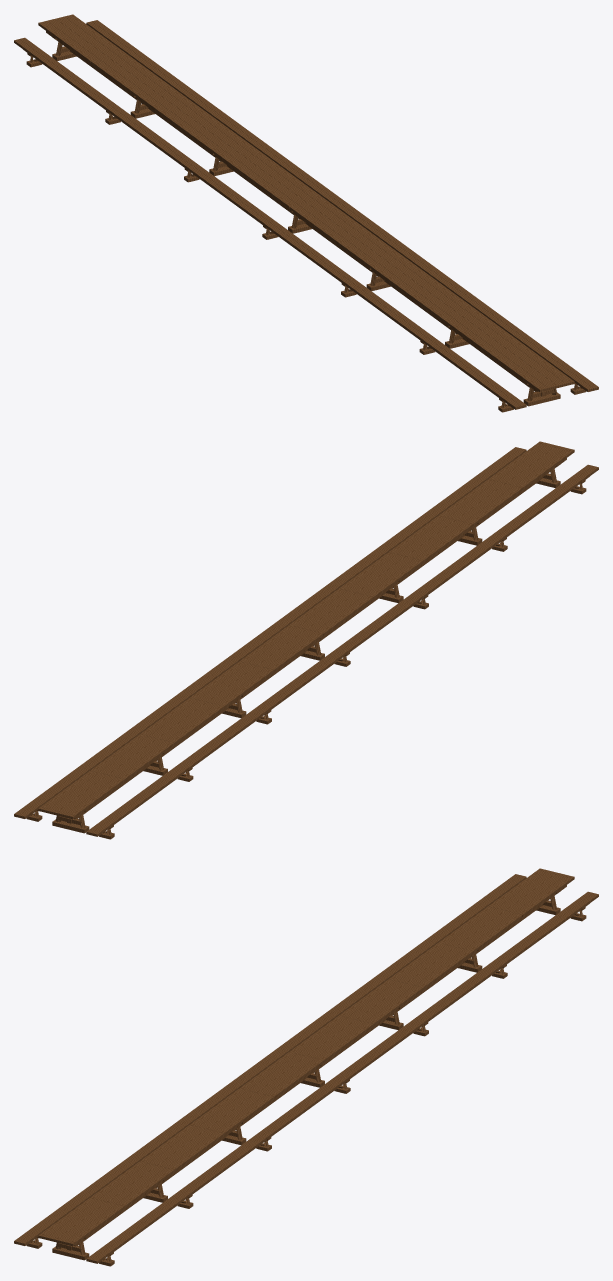
3 views of the same model, one above another, from view 1: azimuth 30°, elevation 25°; view 2: azimuth 150°, elevation 25°; view 3: azimuth 330°, elevation 25° (orthographic).
Parts seen in each view (by area): view 1: house-table; view 2: house-table; view 3: house-table.
Boxes of the visible parts, x1,y1,x2,y2 form: house-table: [14, 14, 598, 412]; house-table: [14, 441, 598, 839]; house-table: [14, 868, 598, 1266].
Size of the model in its own units: 2.9 by 0.86 by 30.
2 materials, 2 textured.
